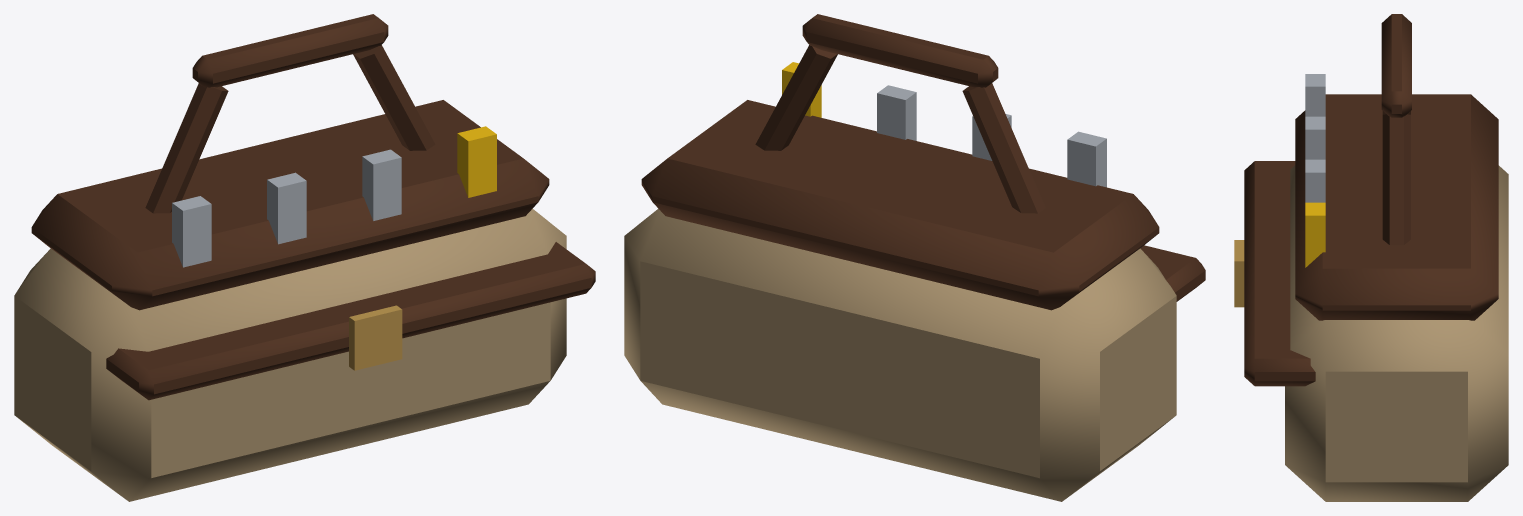
File: toolbox_tool_bag.glb
3 renders of one model, left to right at view 1: azimuth 30°, elevation 25°; view 2: azimuth 150°, elevation 25°; view 3: azimuth 270°, elevation 25°, orthographic. The views are drawn at different scales.
Visible parts, largest first — view 1: toolbox_tool_bag; view 2: toolbox_tool_bag; view 3: toolbox_tool_bag.
Boxes of the visible parts, x1=… form: toolbox_tool_bag: x1=14, y1=14, x2=595, y2=501; toolbox_tool_bag: x1=624, y1=14, x2=1205, y2=501; toolbox_tool_bag: x1=1234, y1=14, x2=1508, y2=501.
Size of the model in its own units: 0.5 by 0.39 by 0.27.
